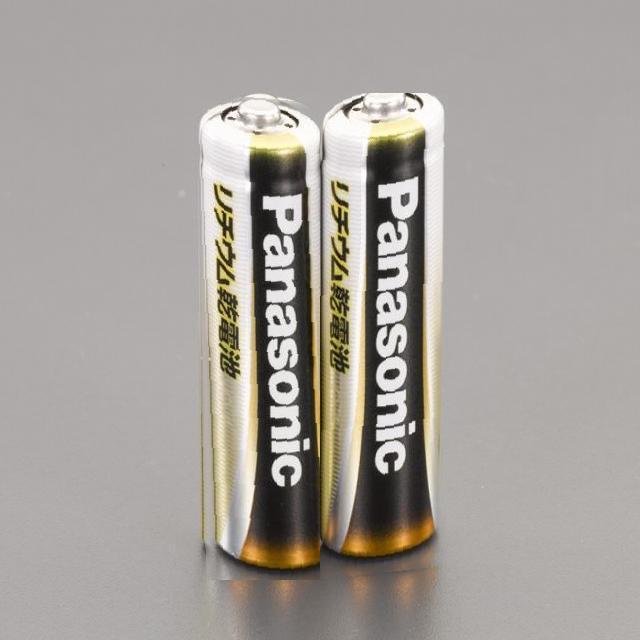battery: (192, 92, 324, 580), (320, 93, 449, 580)
